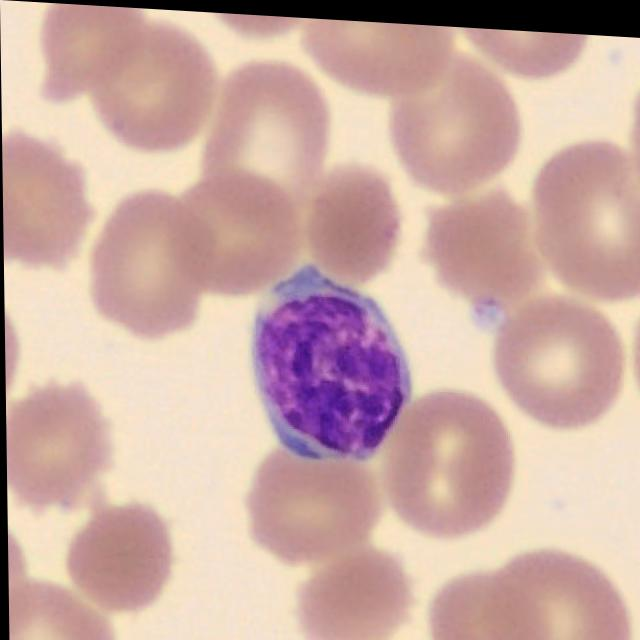Linfocito: (249, 261, 412, 458)
